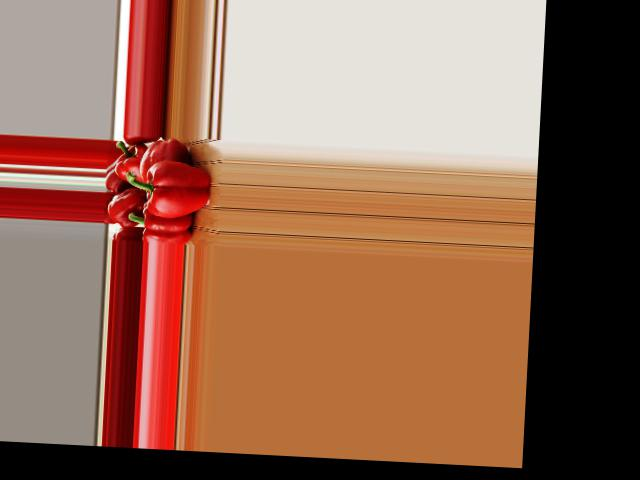bell_pepper: (113, 138, 150, 182)
